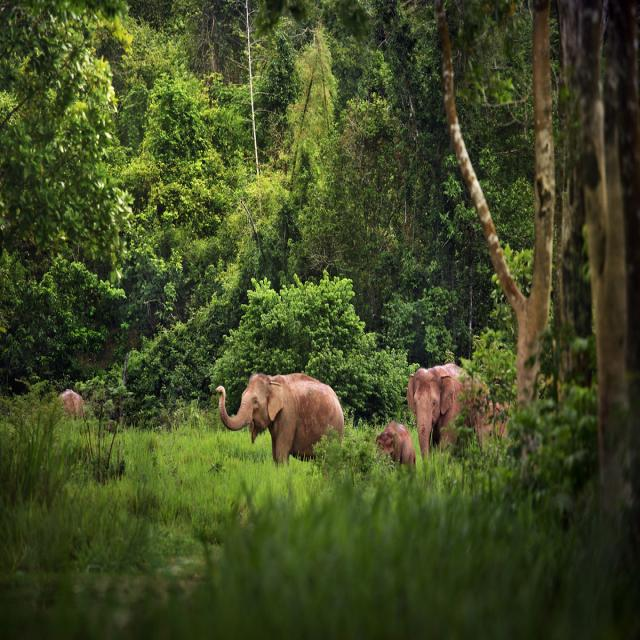Elephant: (211, 354, 353, 482), (404, 353, 488, 480), (44, 367, 107, 444), (371, 415, 417, 490)
